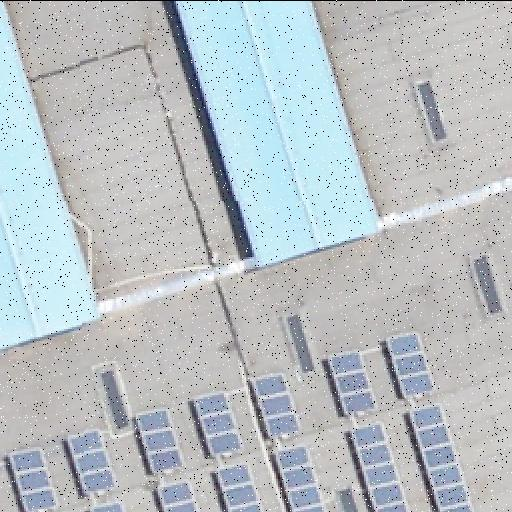solar-panel: (407, 400, 473, 512), (350, 420, 410, 512), (64, 423, 120, 497), (382, 329, 438, 399), (273, 441, 327, 511), (133, 404, 187, 472), (8, 441, 60, 511), (326, 346, 378, 414), (194, 388, 246, 456), (251, 369, 301, 439), (216, 460, 264, 512), (153, 476, 199, 512), (88, 496, 128, 512)
